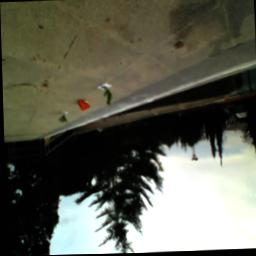herb: (102, 89, 115, 108), (60, 112, 68, 126)
wild: (77, 100, 92, 114)
